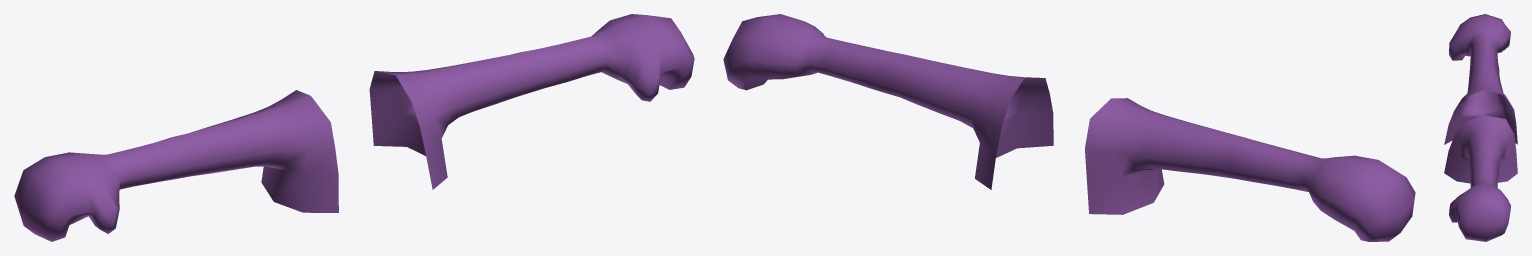
The model's file is Body_Purple_ArmB_1.fbx.
The picture shows the model from 3 angles, left to right: view 1: azimuth 30°, elevation 25°; view 2: azimuth 150°, elevation 25°; view 3: azimuth 270°, elevation 25°; orthographic projection. The views are drawn at different scales.
Parts seen in each view (by area): view 1: Body_Purple_ArmB_1; view 2: Body_Purple_ArmB_1; view 3: Body_Purple_ArmB_1.
Part boxes in pixels (<box>): Body_Purple_ArmB_1: <box>14,14,694,241</box>; Body_Purple_ArmB_1: <box>723,14,1415,241</box>; Body_Purple_ArmB_1: <box>1444,14,1517,241</box>.
Bounding box in the file's own units: 130 × 17.74 × 20.37.
